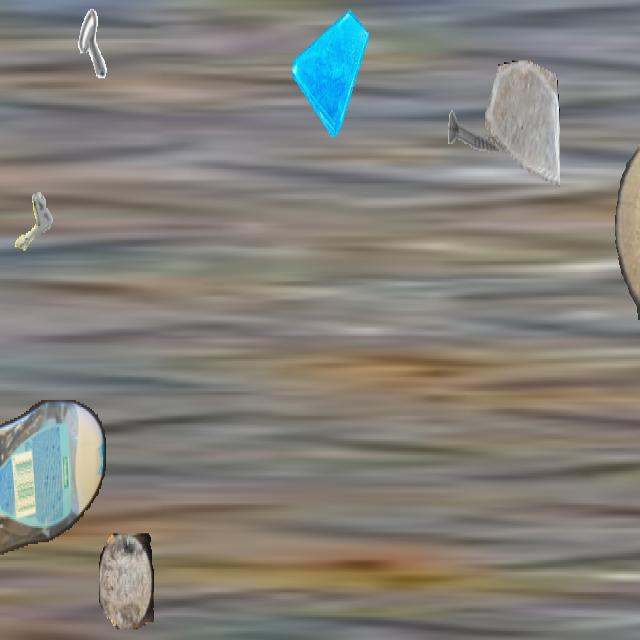glass: (292, 2, 368, 137), (485, 60, 559, 192)
metal: (46, 2, 108, 112), (446, 76, 508, 186), (0, 176, 57, 283)
plastic: (0, 400, 106, 564)
wood: (615, 119, 640, 336), (99, 534, 153, 630)
